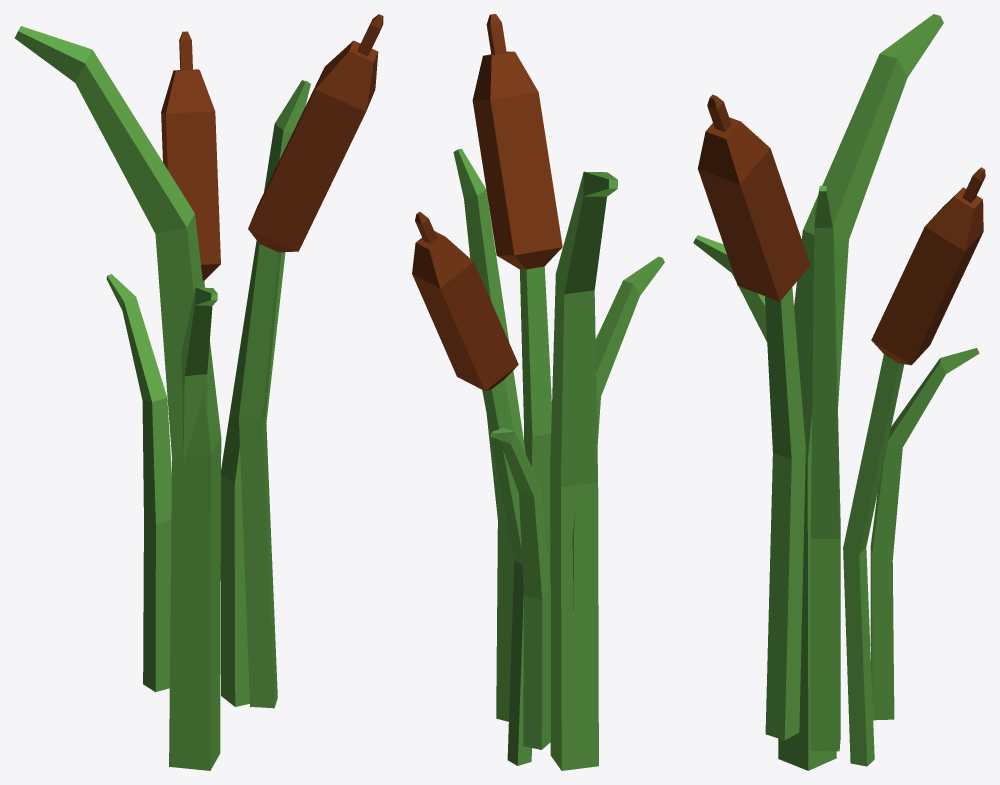
Rendered from PondGrass01.fbx.
3 views of the same model, side by side, from view 1: azimuth 30°, elevation 25°; view 2: azimuth 150°, elevation 25°; view 3: azimuth 270°, elevation 25° (orthographic). The views are drawn at different scales.
Parts seen in each view (by area): view 1: Cube.007, Cube.008, Cube.010, Cube.009, Cube.006, Cube.011; view 2: Cube.007, Cube.008, Cube.006, Cube.010, Cube.009, Cube.011; view 3: Cube.008, Cube.006, Cube.007, Cube.009, Cube.010, Cube.011.
Boxes of the visible parts, <box> form: Cube.007: <box>14,26,221,770</box>; Cube.008: <box>238,14,383,708</box>; Cube.010: <box>106,274,171,692</box>; Cube.009: <box>220,80,310,706</box>; Cube.006: <box>161,31,220,287</box>; Cube.011: <box>181,287,217,464</box>; Cube.007: <box>550,171,617,770</box>; Cube.008: <box>472,14,562,578</box>; Cube.006: <box>412,212,531,765</box>; Cube.010: <box>490,427,550,749</box>; Cube.009: <box>453,148,525,721</box>; Cube.011: <box>572,256,664,625</box>; Cube.008: <box>697,94,810,740</box>; Cube.006: <box>843,167,985,766</box>; Cube.007: <box>778,14,943,770</box>; Cube.009: <box>810,186,840,751</box>; Cube.010: <box>870,348,979,720</box>; Cube.011: <box>693,235,767,342</box>.
Bounding box in the file's own units: 93.79 × 258 × 93.81.
